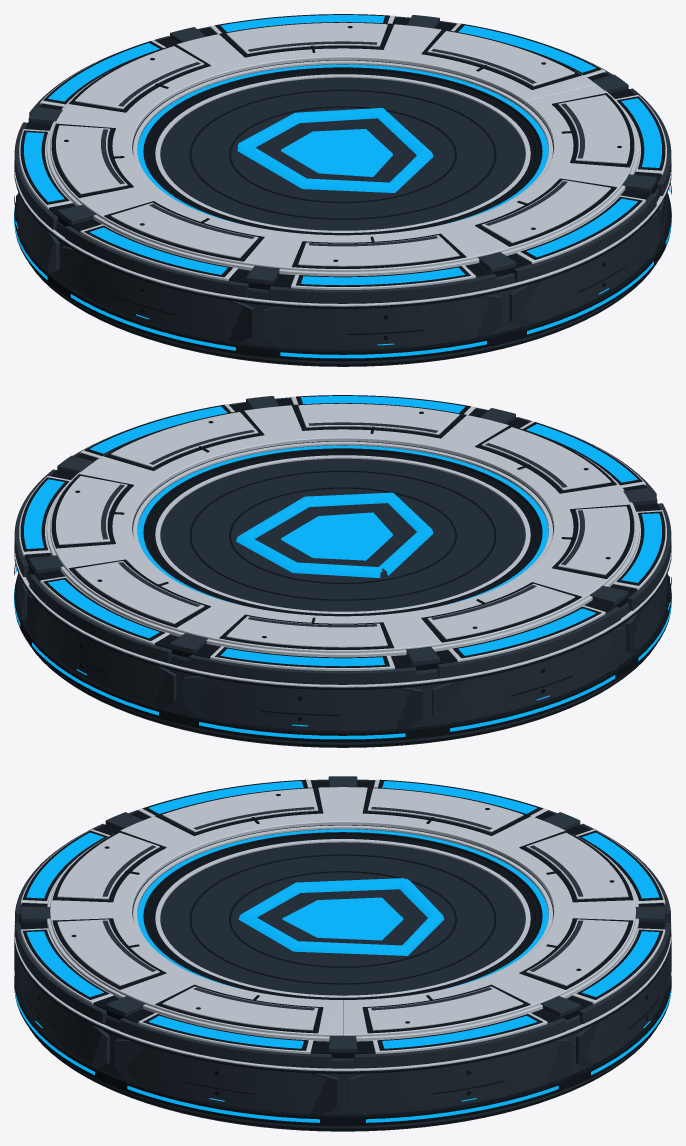
File: Blocker.glb
The picture shows the model from 3 angles, top to bottom: view 1: azimuth 30°, elevation 25°; view 2: azimuth 150°, elevation 25°; view 3: azimuth 270°, elevation 25°; orthographic projection.
Visible parts, largest first — view 1: SM_Puck_Blocker; view 2: SM_Puck_Blocker; view 3: SM_Puck_Blocker.
Boxes of the visible parts, <box> form: SM_Puck_Blocker: <box>14,14,671,366</box>; SM_Puck_Blocker: <box>14,395,671,747</box>; SM_Puck_Blocker: <box>14,776,671,1131</box>.
Size of the model in its own units: 1.06 by 0.1649 by 1.06.
